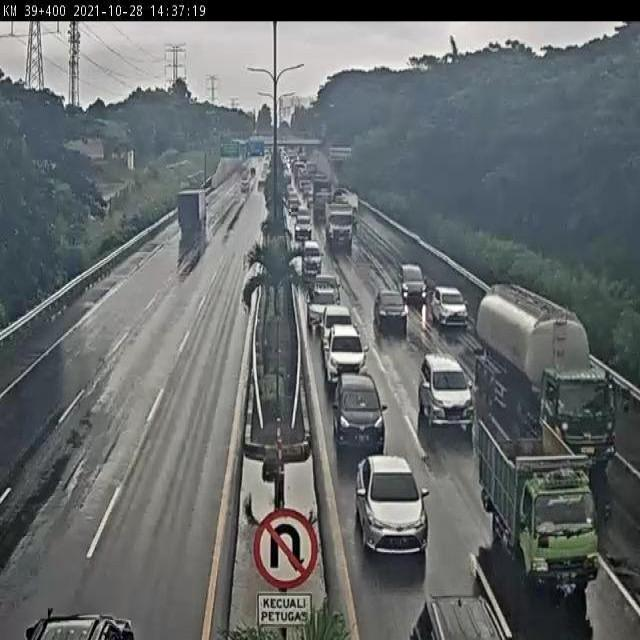big truck: (471, 280, 617, 468), (174, 187, 210, 232), (326, 204, 353, 247)
car: (354, 457, 434, 560), (417, 353, 474, 435), (332, 373, 390, 451), (409, 597, 506, 640), (322, 323, 373, 393), (430, 286, 473, 334), (319, 304, 354, 347), (304, 284, 337, 324), (399, 263, 428, 304), (315, 273, 344, 308), (372, 282, 402, 314), (301, 241, 325, 276), (292, 211, 315, 237)
small truck: (477, 417, 599, 596)
